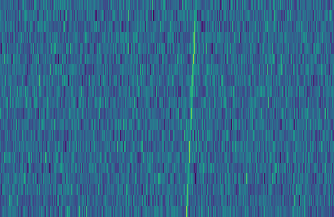signal: (182, 0, 200, 217)
